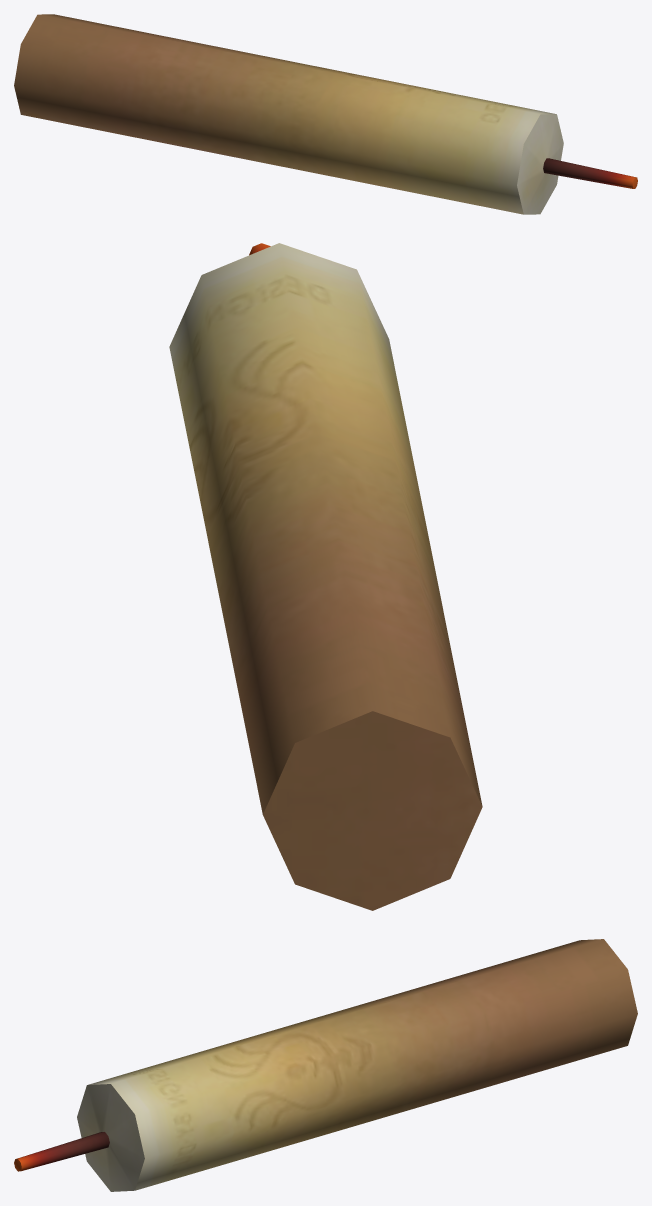
Rendered from ShenFuXiuXiShi_01_lazhu_01.FBX.
3 views of the same model, one above another, from view 1: azimuth 30°, elevation 25°; view 2: azimuth 150°, elevation 25°; view 3: azimuth 270°, elevation 25° (orthographic). The views are drawn at different scales.
Visible parts, largest first — view 1: ShenFuXiuXiShi_01_lazhu_01; view 2: ShenFuXiuXiShi_01_lazhu_01; view 3: ShenFuXiuXiShi_01_lazhu_01.
Part boxes in pixels (x1,y1,x2,y2): ShenFuXiuXiShi_01_lazhu_01: (14,14,637,214); ShenFuXiuXiShi_01_lazhu_01: (169,243,482,910); ShenFuXiuXiShi_01_lazhu_01: (14,939,637,1191).
Size of the model in its own units: 78.85 by 20.33 by 106.
